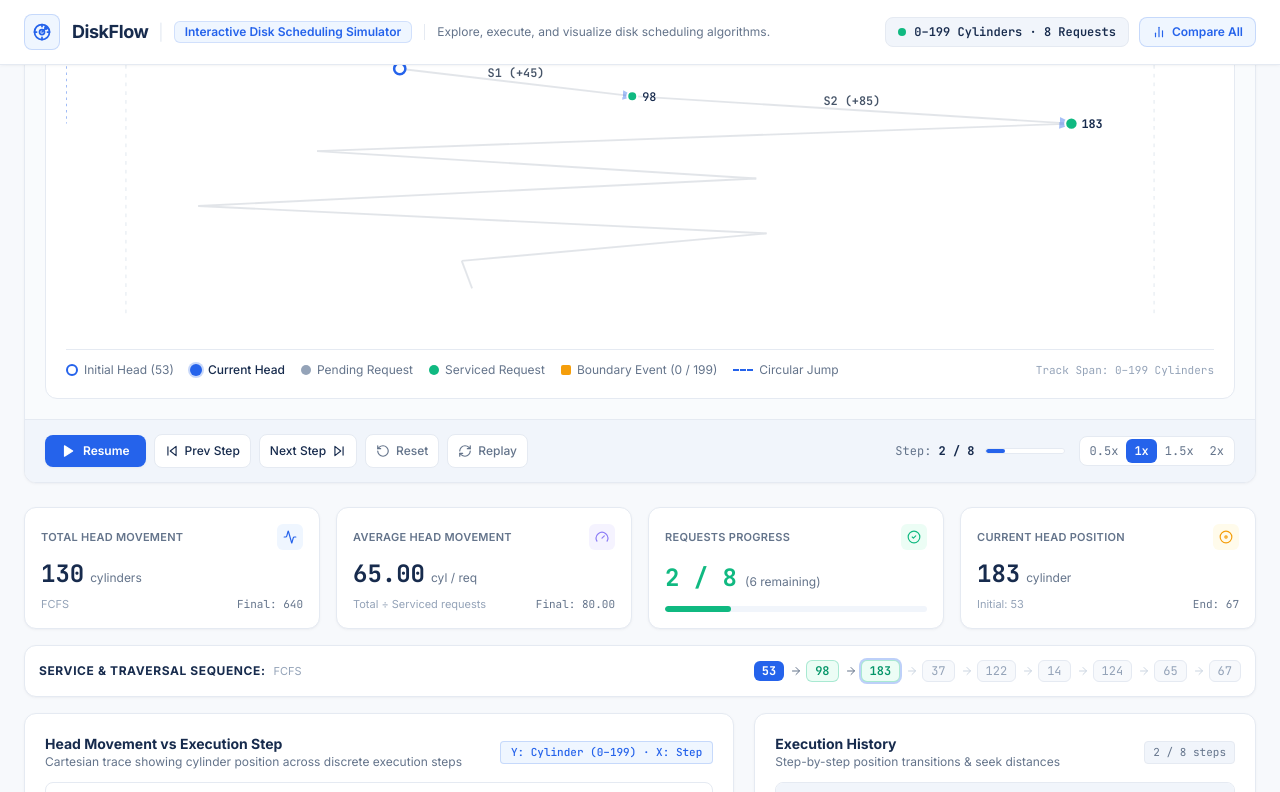
Scenario: DiskFlow — Full UI Integration Tests › switches algorithms and computes exact matching outputs dynamically
Earlier steps of the test are not shown.
(page scrolled)
Click the button titled "Next Step": (308, 451) 259,434 -> 357,468
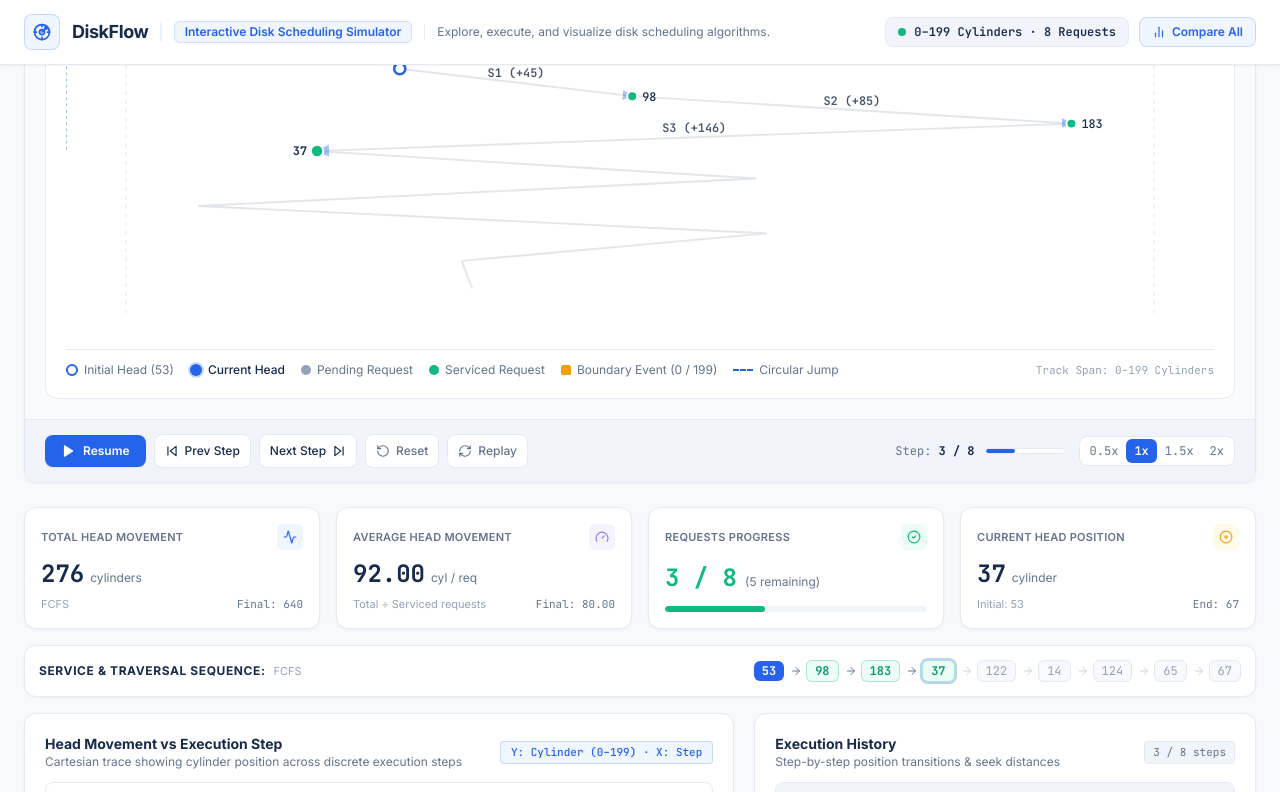
Click the button titled "Next Step": (308, 451) 259,434 -> 357,468
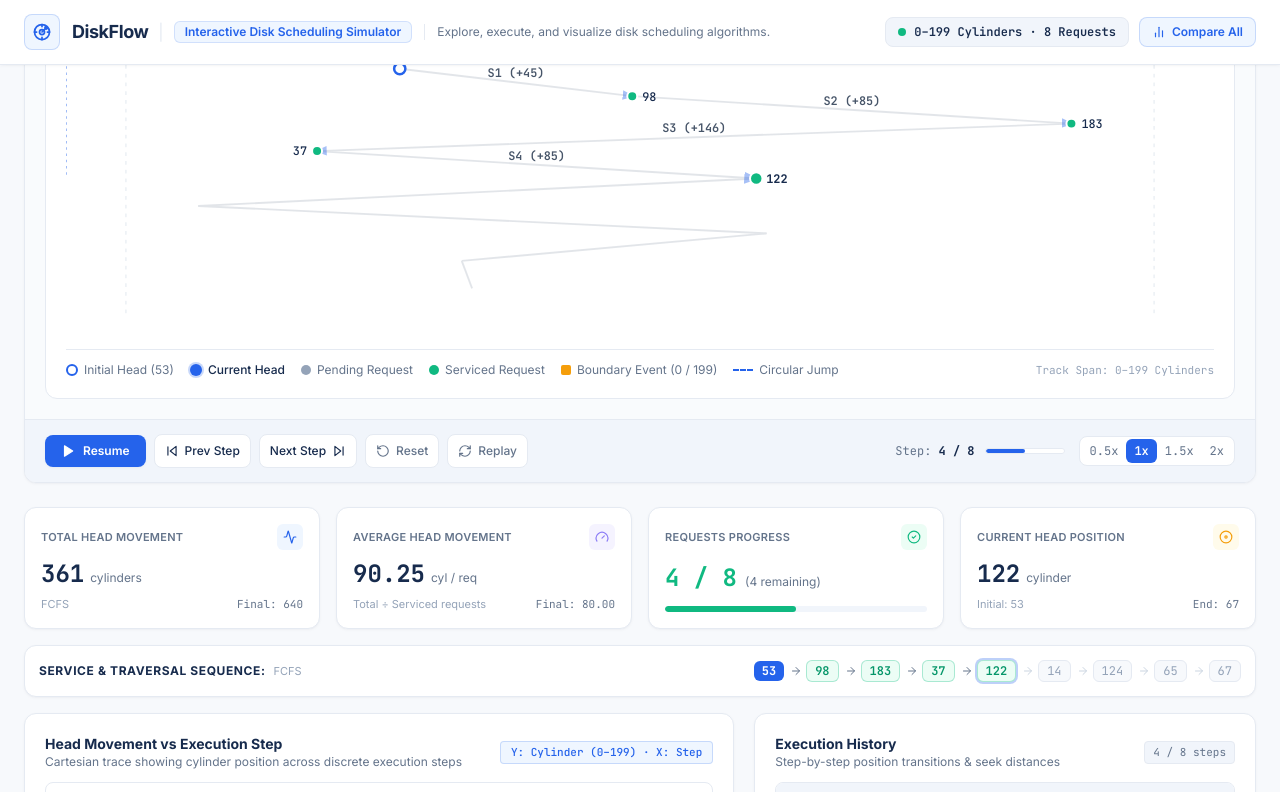
Click the button titled "Next Step": (308, 451) 259,434 -> 357,468
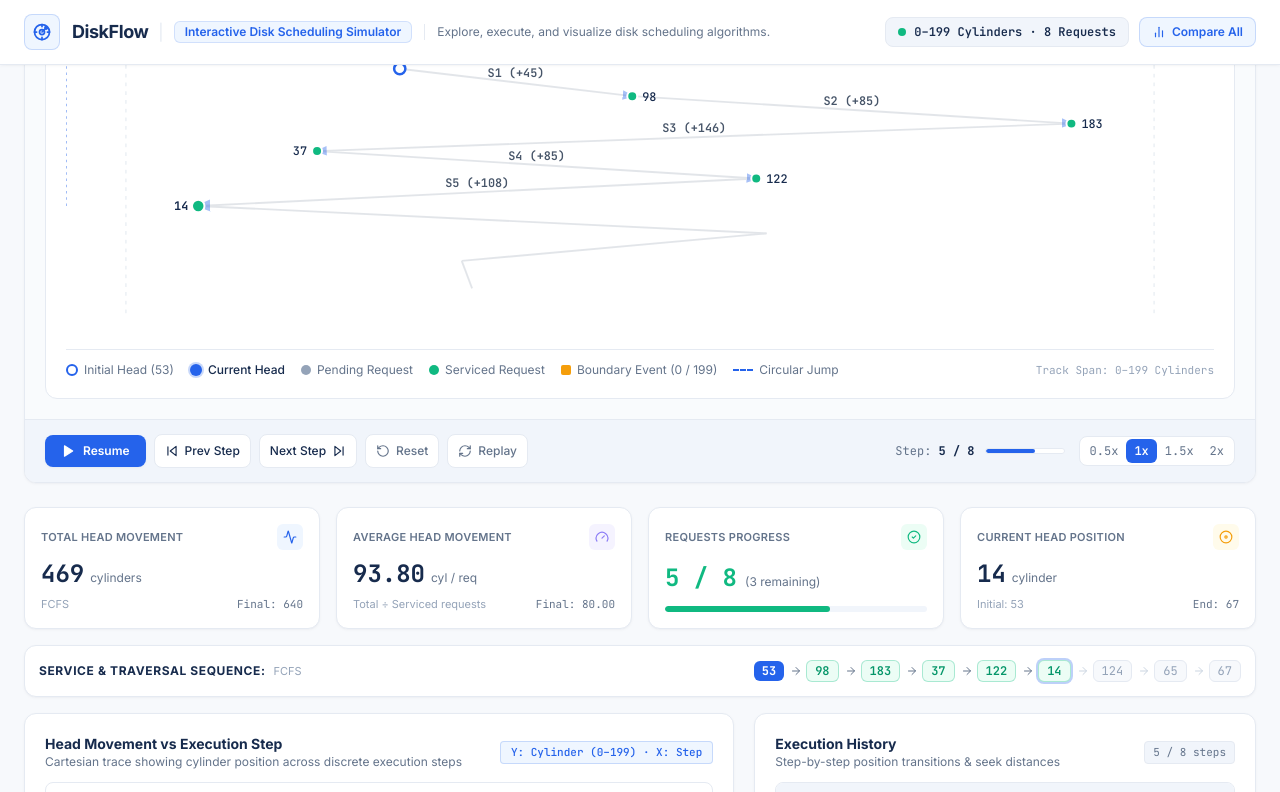
Click the button titled "Next Step": (308, 451) 259,434 -> 357,468
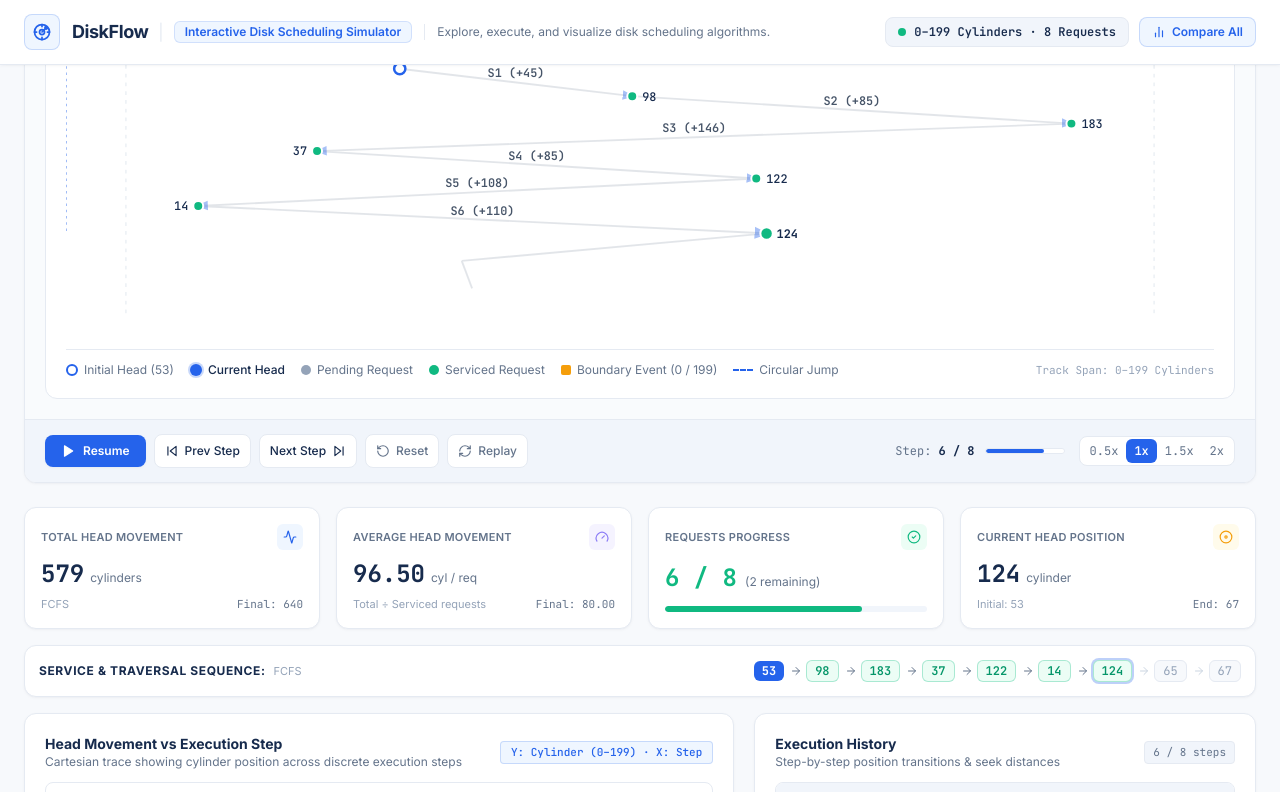
Click the button titled "Next Step": (308, 451) 259,434 -> 357,468
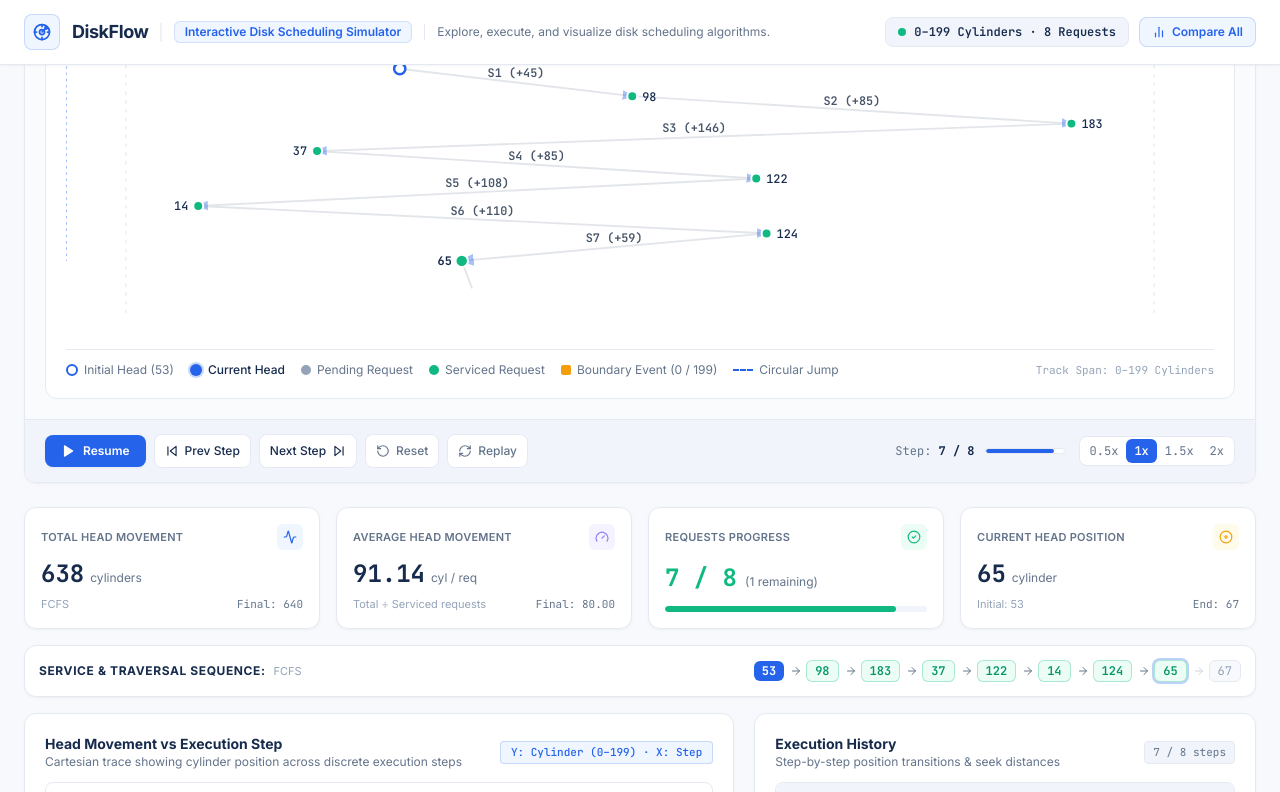
Click the button titled "Next Step": (308, 451) 259,434 -> 357,468
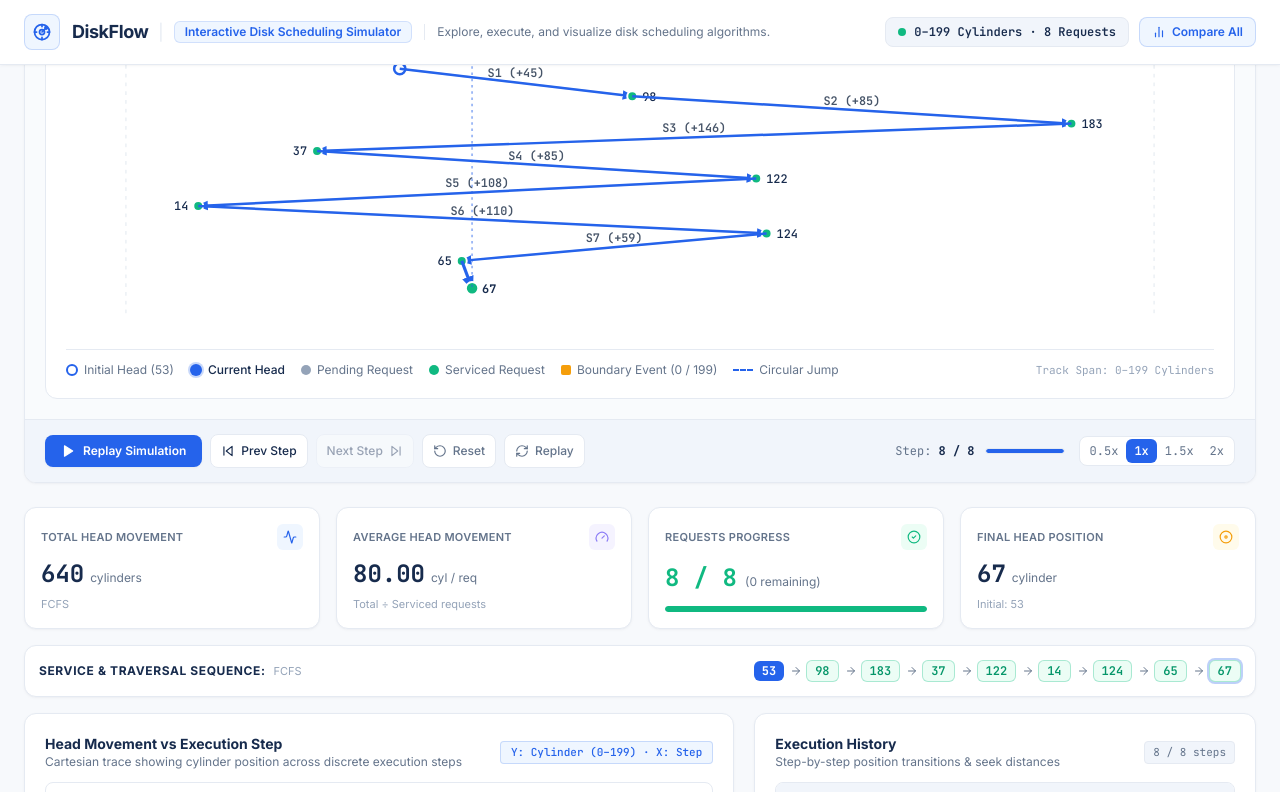
Expected: the text with test id "kpi-total-movement" reads "640", 41,558 -> 84,589
Expected: the text with test id "kpi-avg-movement" reads "80.00", 353,558 -> 425,589
Expected: the text with test id "kpi-final-pos" reads "67", 977,558 -> 1006,589
